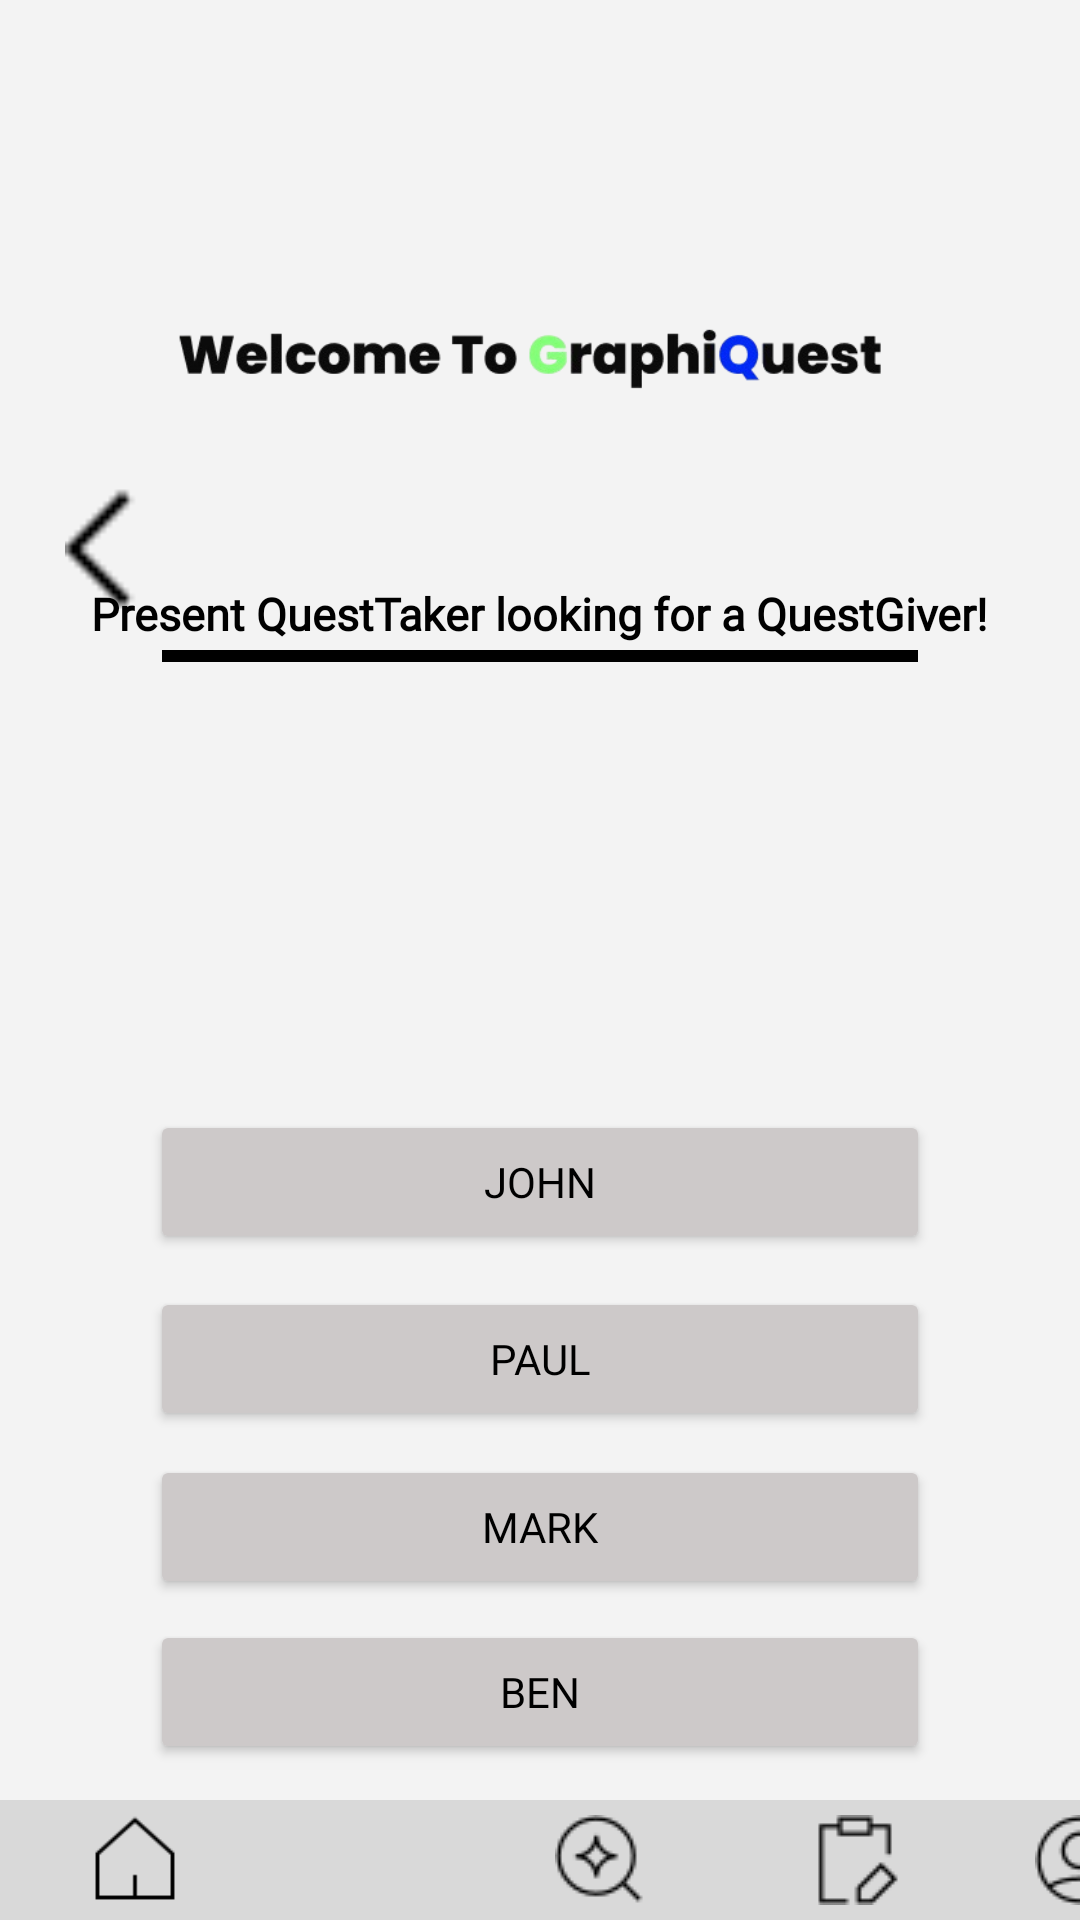

Icon click points for this 1080×1920 phone screenshot, format (x,y):
homebutton: (135,1858)
searchbutton: (599,1859)
taskboardbutton: (858,1860)
